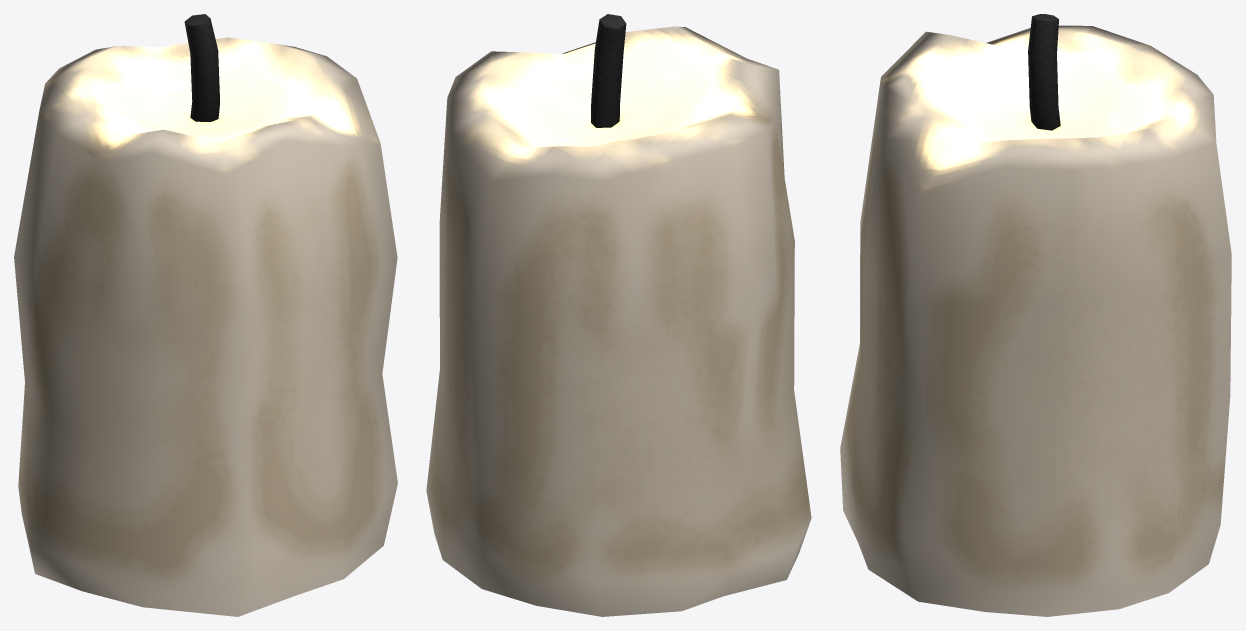
File: SM_Candle4.fbx
The picture shows the model from 3 angles, left to right: view 1: azimuth 30°, elevation 25°; view 2: azimuth 150°, elevation 25°; view 3: azimuth 270°, elevation 25°; orthographic projection. The views are drawn at different scales.
Parts seen in each view (by area): view 1: SM_Candle4_LOD0; view 2: SM_Candle4_LOD0; view 3: SM_Candle4_LOD0.
Boxes of the visible parts, bbox=[...] form: SM_Candle4_LOD0: bbox=[14, 14, 397, 616]; SM_Candle4_LOD0: bbox=[426, 14, 811, 616]; SM_Candle4_LOD0: bbox=[840, 14, 1231, 616].
Bounding box in the file's own units: 9.31 × 9.4 × 13.92.
1 material, 1 textured.
